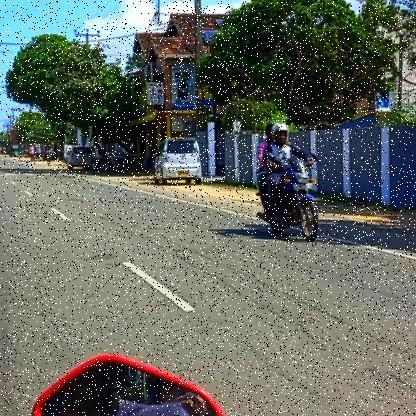motorcycle: (254, 158, 322, 246)
